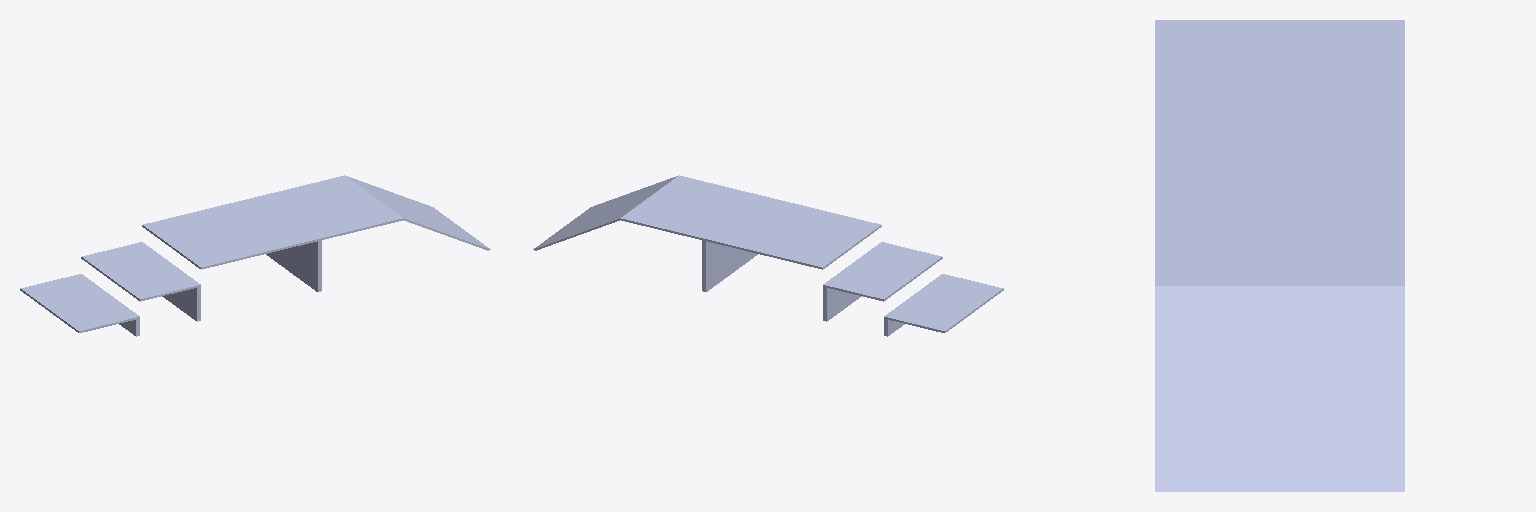
The robot description file, URDF, robot "map30xuongdoc":
<?xml version="1.0" encoding="utf-8"?>
<!-- This URDF was automatically created by SolidWorks to URDF Exporter! Originally created by [author] ([email redacted]) 
     Commit Version: 1.6.0-1-g15f4949  Build Version: 1.6.7594.29634
     For more information, please see http://wiki.ros.org/sw_urdf_exporter -->
<robot
  name="map30xuongdoc">
  <link
    name="base_link">
    <inertial>
      <origin
        xyz="-0.143810334264147 0 -0.0954115964883124"
        rpy="0 0 0" />
      <mass
        value="14.9082622392718" />
      <inertia
        ixx="0.379650663684846"
        ixy="5.28679684969492E-16"
        ixz="0.140327085456809"
        iyy="1.3433493070516"
        iyz="9.20447603129704E-17"
        izz="1.58487623666975" />
    </inertial>
    <visual>
      <origin
        xyz="0 0 0"
        rpy="0 0 0" />
      <geometry>
        <mesh
          filename="package://map30xuongdoc/meshes/base_link.STL" />
      </geometry>
      <material
        name="">
        <color
          rgba="0.792156862745098 0.819607843137255 0.933333333333333 1" />
      </material>
    </visual>
    <collision>
      <origin
        xyz="0 0 0"
        rpy="0 0 0" />
      <geometry>
        <mesh
          filename="package://map30xuongdoc/meshes/base_link.STL" />
      </geometry>
    </collision>
  </link>
</robot>

--- Facts derived from the render (not from the file) ---
Views: 3 orthographic renders of the robot side by side, from view 1: azimuth 30°, elevation 25°; view 2: azimuth 150°, elevation 25°; view 3: azimuth 270°, elevation 25°.
Model map30xuongdoc with 1 links and 0 joints (none), rooted at base_link, posed every joint at zero.
Visible links, largest first — view 1: base_link; view 2: base_link; view 3: base_link.
Boxes of the visible links, x1,y1,x2,y2 form: base_link: (20, 175, 490, 336); base_link: (533, 175, 1003, 336); base_link: (1155, 20, 1404, 491).
Size in the robot's own frame: 2.03 by 0.5 by 0.25 metres.
Meshes: 1 distinct files referenced, 1 mesh visuals loaded (1 binary STL).
